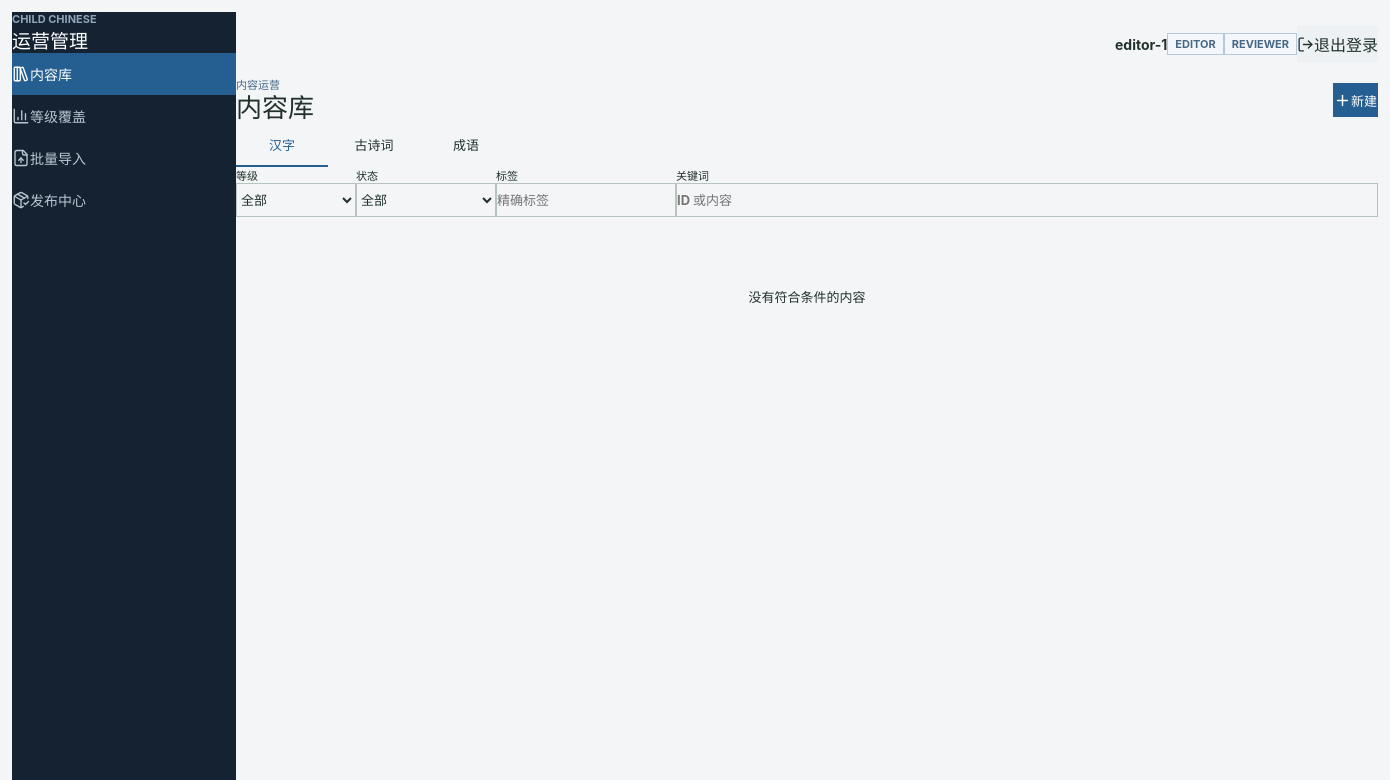
it: admin application authentication › clears the session when the administrator logs out
Expected: the text "editor-1" is shown, x1=1115 y1=36 x2=1167 y2=52
Click the button "退出登录": coordinates (1338, 44) x1=1297 y1=26 x2=1378 y2=62
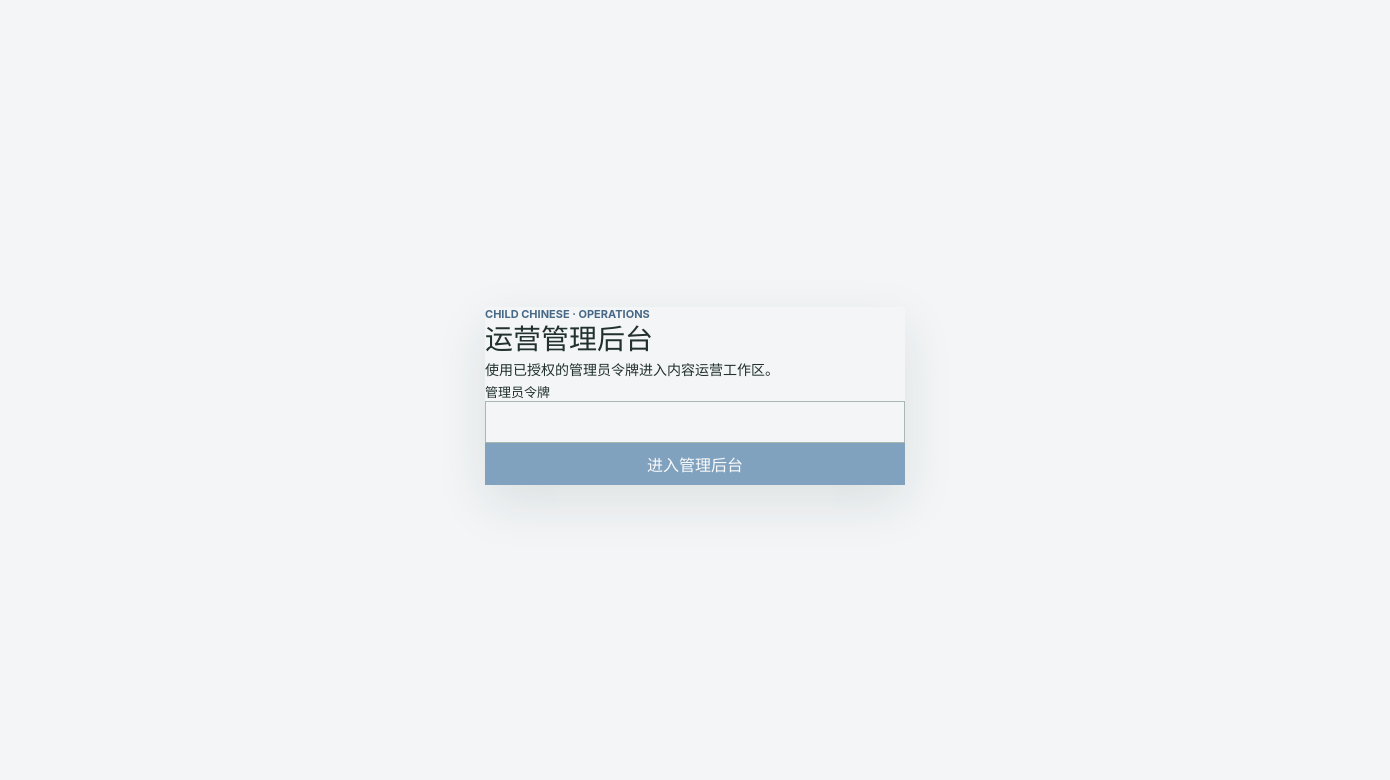
Result: the password field labelled "管理员令牌" is shown at x1=485 y1=401 x2=905 y2=443
